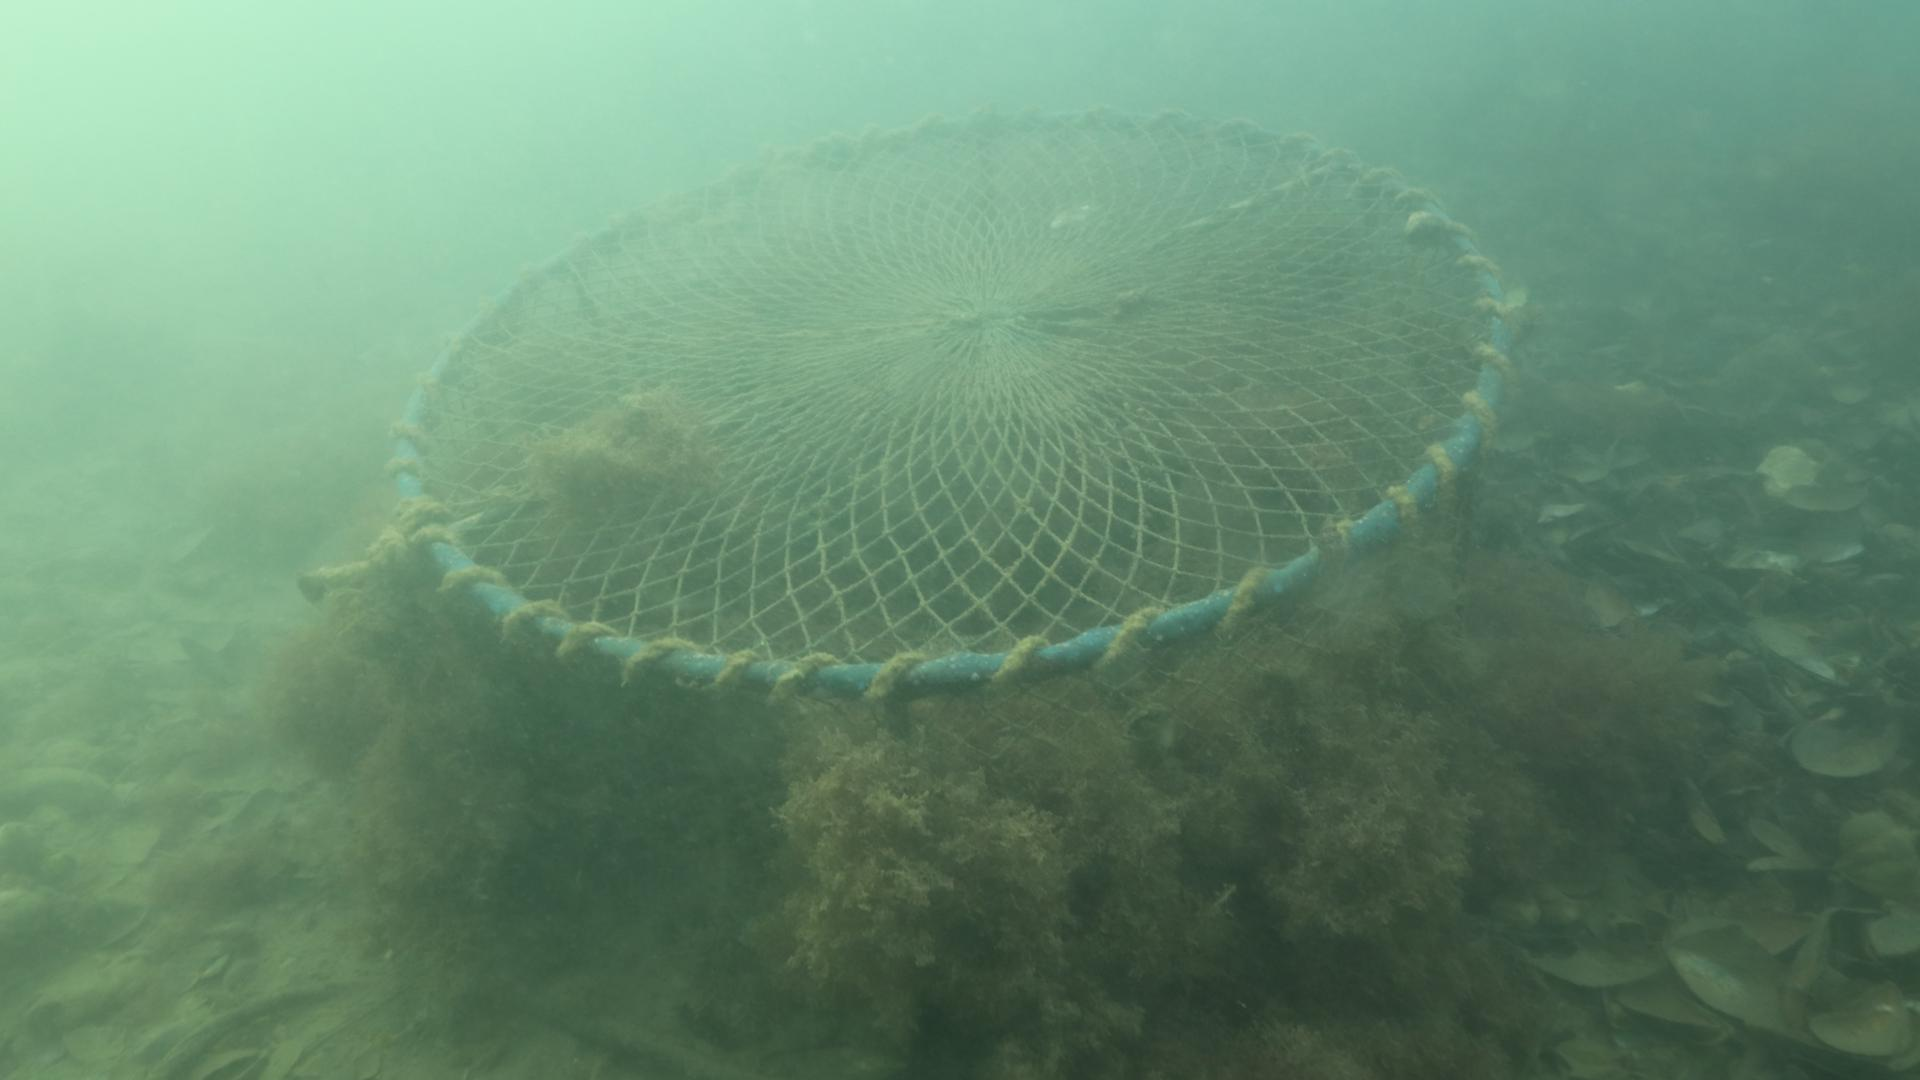circular fish trap: (388, 104, 1511, 927)
